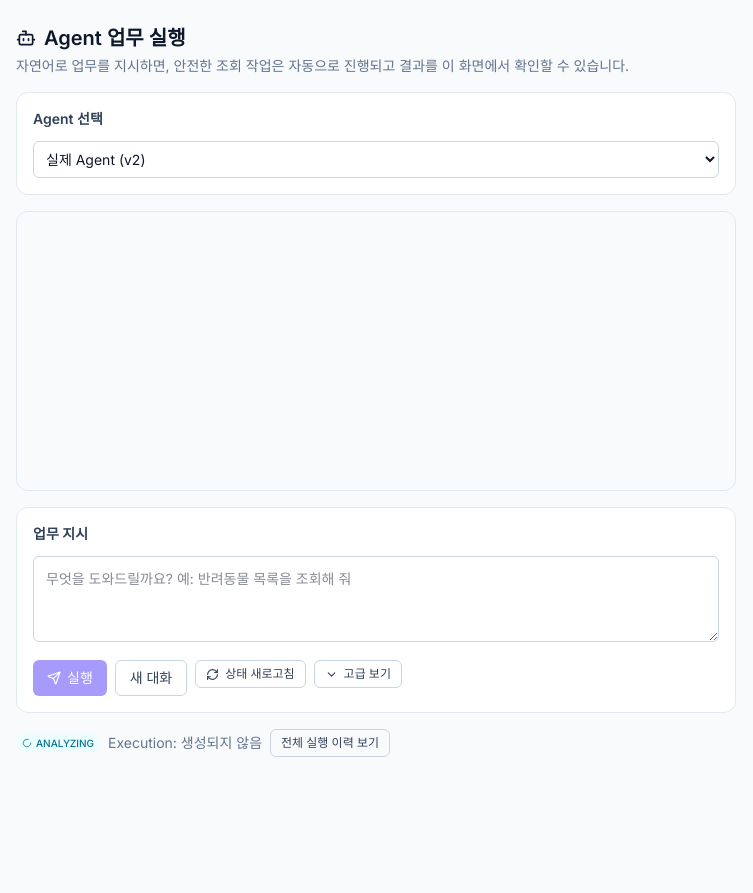
Test: AgentRunLive — chat phase 1 › does not auto-retry persisted ANALYZING after reload
What coordinates should you click on to do the following:
click the button "고급 보기"
I would click on:
 (358, 674)
Its box is x1=314 y1=660 x2=402 y2=688.
(page scrolled)
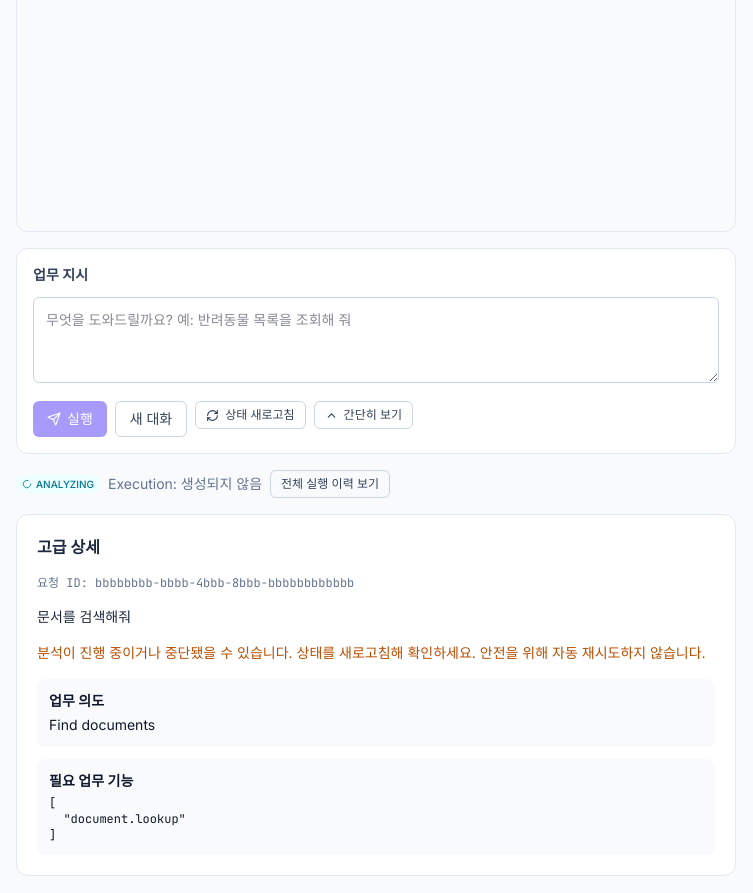
Now the text "분석이 진행 중이거나 중단됐을 수 있습니다" is shown, box x1=37 y1=644 x2=706 y2=661
